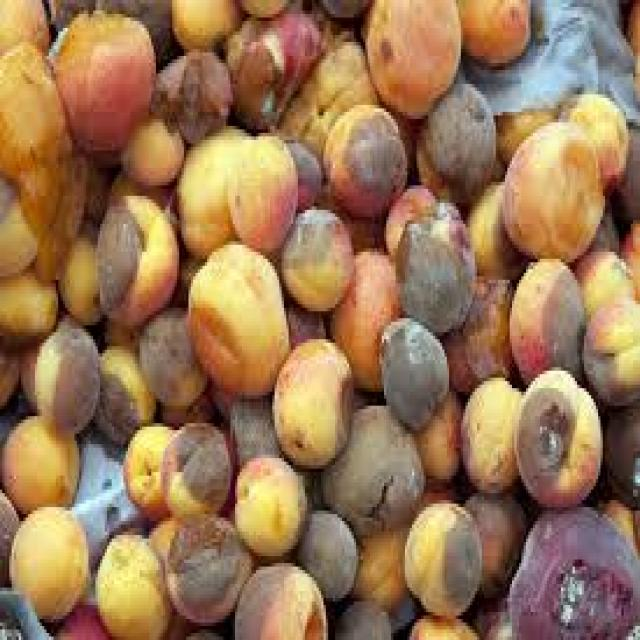organic waste: (502, 504, 638, 636), (46, 0, 154, 161), (186, 234, 286, 396), (316, 395, 424, 532), (500, 119, 603, 252), (221, 10, 328, 126), (514, 364, 600, 504), (270, 35, 377, 140), (265, 336, 349, 468), (360, 0, 456, 115), (172, 112, 252, 248), (93, 189, 177, 318), (326, 245, 402, 385), (163, 504, 251, 619), (412, 80, 493, 203), (5, 504, 89, 619), (396, 196, 470, 325), (505, 252, 582, 374), (0, 38, 67, 178), (402, 496, 480, 616), (223, 395, 312, 497), (91, 528, 170, 637), (321, 105, 403, 210), (28, 308, 98, 430), (458, 371, 524, 496), (42, 0, 172, 63), (346, 514, 416, 630), (0, 409, 79, 511), (226, 126, 296, 241), (377, 311, 447, 423), (277, 203, 351, 308), (233, 556, 328, 637), (442, 276, 512, 385), (554, 91, 626, 196), (138, 304, 210, 409), (14, 147, 70, 276), (158, 412, 228, 510), (580, 294, 638, 409), (461, 486, 521, 595), (151, 46, 228, 130), (293, 507, 356, 602), (93, 339, 154, 437), (463, 171, 521, 273), (100, 171, 179, 238), (454, 0, 530, 63), (414, 381, 458, 486), (570, 241, 631, 315), (124, 420, 174, 510), (56, 217, 100, 318), (596, 402, 638, 507), (0, 266, 58, 339), (116, 112, 182, 171), (384, 182, 438, 252), (568, 192, 619, 262), (168, 0, 238, 49), (488, 105, 552, 157), (58, 136, 89, 238), (607, 126, 638, 227), (0, 175, 33, 266), (407, 122, 447, 196), (0, 0, 49, 56), (209, 370, 263, 420), (282, 136, 318, 210), (332, 594, 388, 636), (594, 489, 638, 538), (282, 300, 324, 350), (409, 472, 458, 514), (0, 482, 19, 588), (339, 199, 382, 245), (98, 314, 144, 356), (51, 602, 105, 636), (405, 612, 477, 637), (163, 612, 230, 637), (14, 332, 37, 402), (621, 0, 638, 91), (621, 213, 638, 301), (470, 594, 505, 636), (144, 507, 177, 549), (0, 336, 19, 406), (237, 0, 297, 17), (314, 0, 366, 14)
